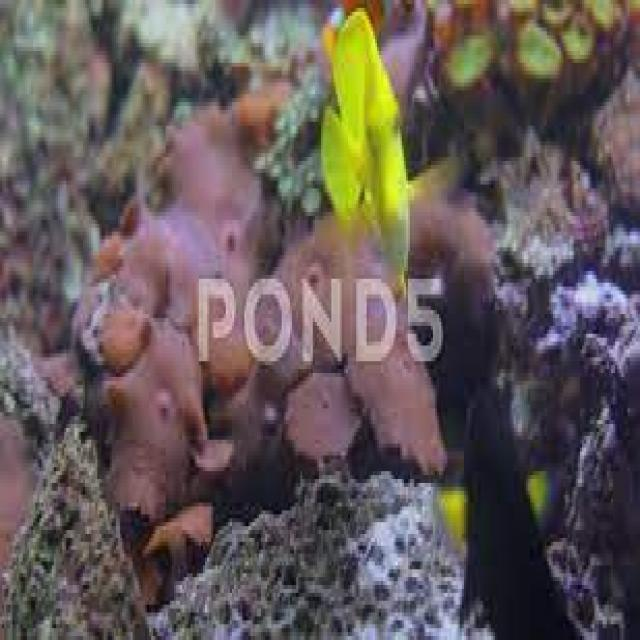YellowTang: (311, 0, 438, 304)
